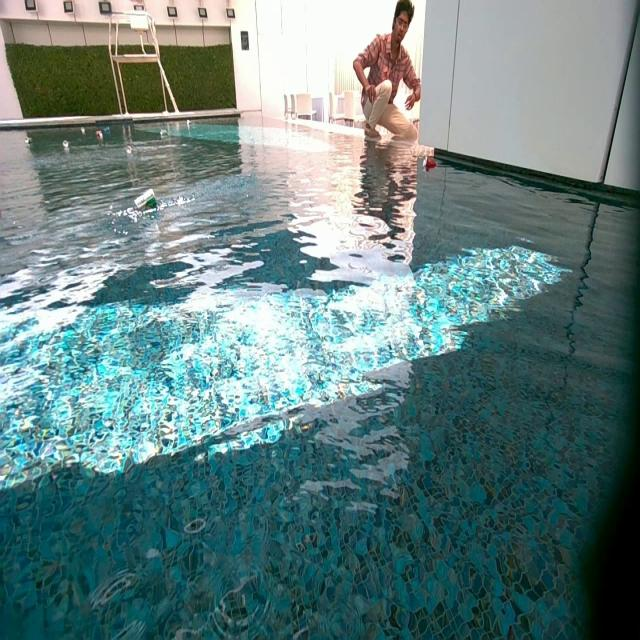Cans: (135, 190, 158, 217), (421, 156, 438, 172), (26, 137, 34, 146), (97, 131, 105, 140), (103, 128, 111, 136), (79, 128, 86, 136), (161, 130, 168, 138), (63, 140, 70, 148), (128, 146, 134, 155), (186, 120, 191, 128)
